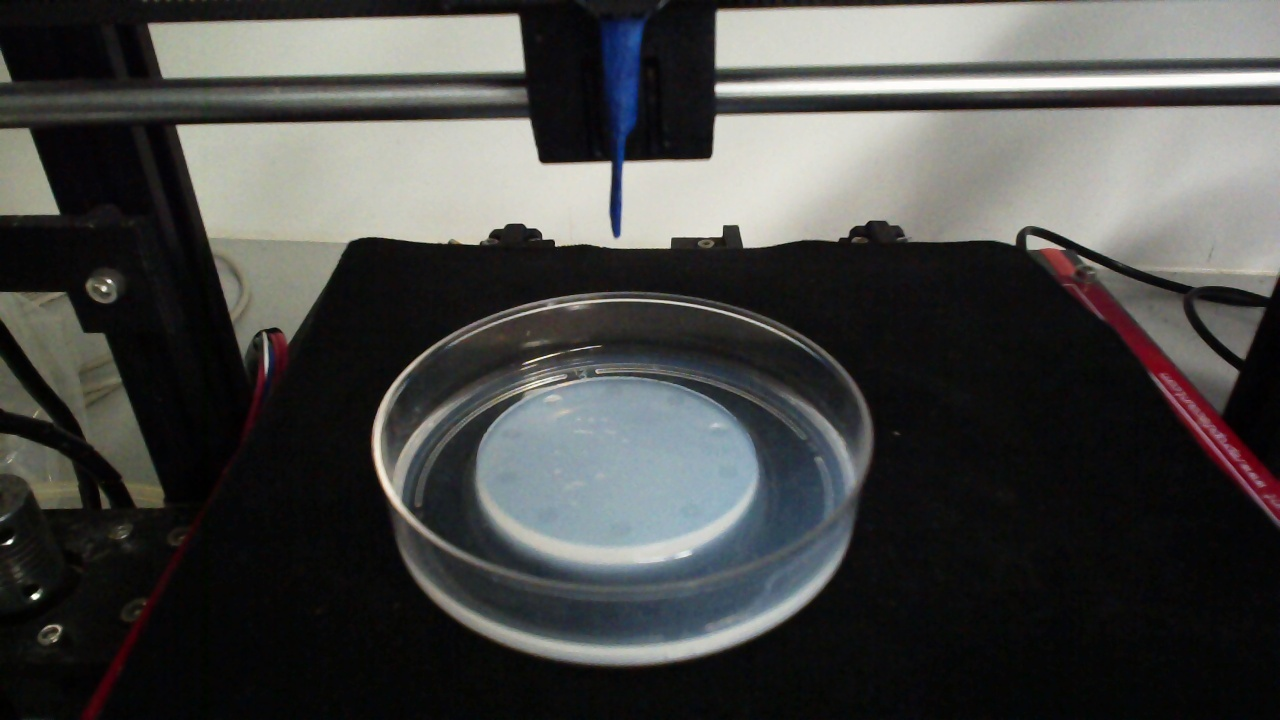groove: (607, 520, 632, 539), (715, 462, 740, 481), (705, 422, 730, 441), (535, 506, 559, 525), (494, 468, 518, 485), (679, 502, 701, 520), (541, 394, 564, 411), (499, 425, 522, 441), (664, 392, 687, 408), (602, 383, 625, 398)
needle: (603, 24, 642, 238)
